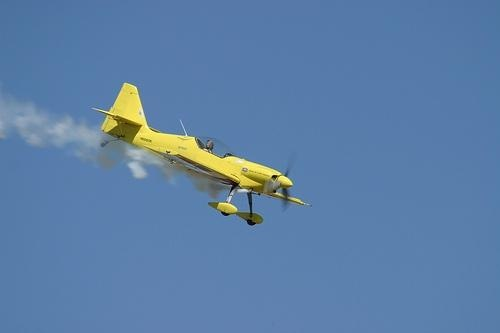aeroplane: (92, 82, 314, 228)
